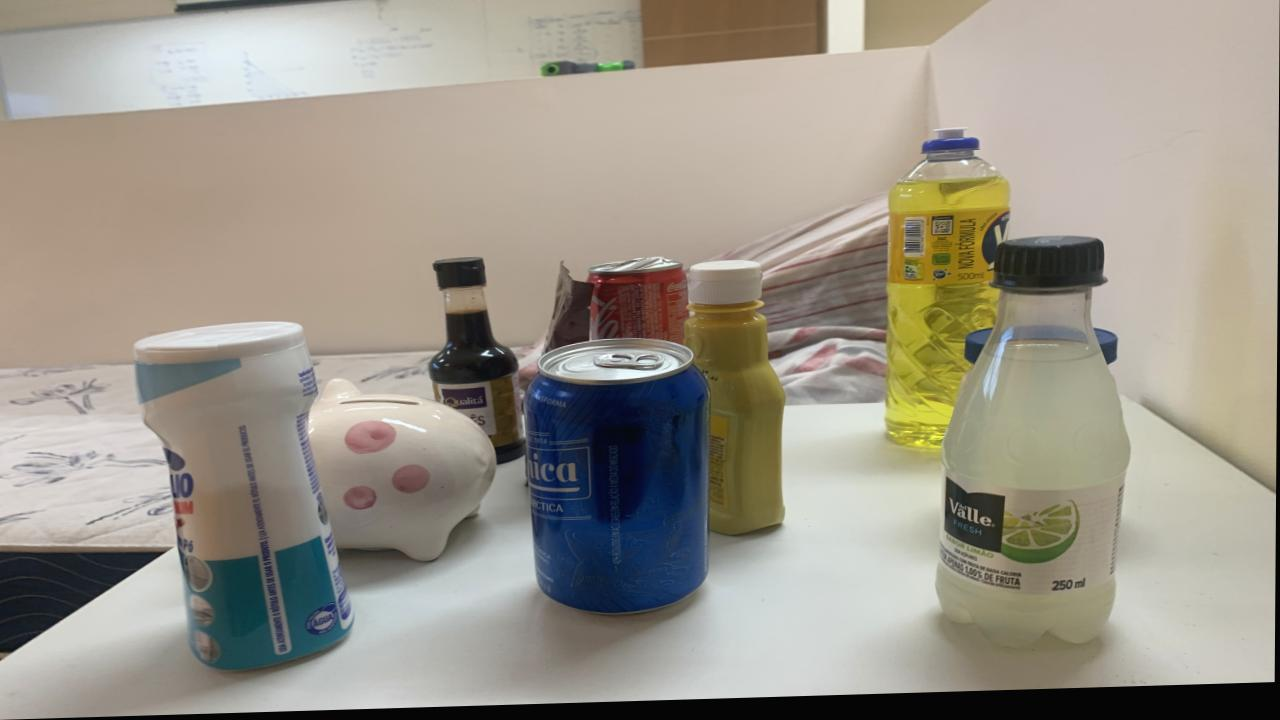Cleaner-Cleanup_Items: (135, 323, 354, 672)
Coffee-Pantry_Items: (543, 266, 593, 357)
Coke-Drinks: (588, 260, 688, 348)
Detergent-Cleanup_Items: (887, 135, 1011, 455)
English_Sauce-Pantry_Items: (430, 261, 527, 466)
Mayonnaise-Pantry_Items: (965, 333, 993, 369), (1095, 334, 1118, 372)
Mustard-Pantry_Items: (685, 264, 785, 540)
Pig_Safe-Miscellaneous: (310, 380, 497, 564)
Soda-Drinks: (936, 243, 1130, 653)
Tonic-Drinks: (525, 341, 710, 618)
